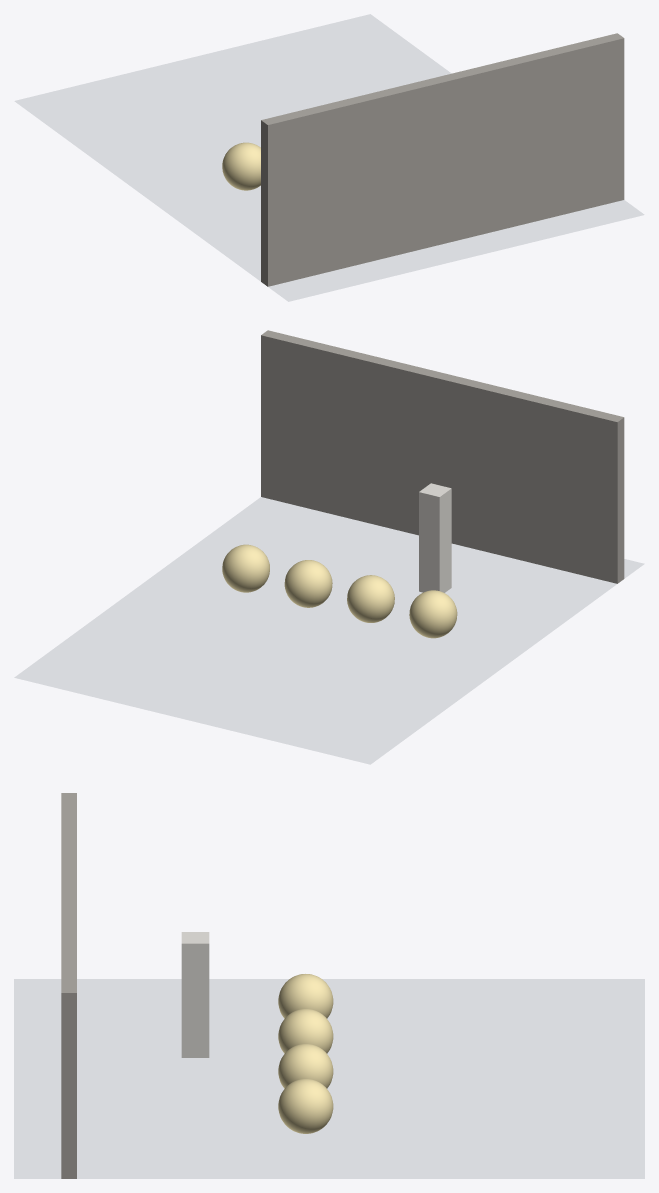
Rendered from mirror.gltf.
3 views of the same model, one above another, from view 1: azimuth 30°, elevation 25°; view 2: azimuth 150°, elevation 25°; view 3: azimuth 270°, elevation 25° (orthographic). The views are drawn at different scales.
Parts seen in each view (by area): view 1: wall, floor, metal_0; view 2: floor, wall, pylon, metal_0, metal_3, metal_1, metal_2; view 3: floor, wall, pylon, metal_3, metal_2, metal_0, metal_1.
Part boxes in pixels (x1=…): wall: x1=261, y1=33, x2=624, y2=286; floor: x1=14, y1=14, x2=644, y2=301; metal_0: x1=222, y1=142, x2=260, y2=190; floor: x1=14, y1=497, x2=644, y2=764; wall: x1=261, y1=330, x2=624, y2=583; pylon: x1=419, y1=483, x2=451, y2=592; metal_0: x1=409, y1=590, x2=457, y2=638; metal_3: x1=222, y1=544, x2=269, y2=592; metal_1: x1=347, y1=575, x2=394, y2=622; metal_2: x1=284, y1=560, x2=332, y2=607; floor: x1=14, y1=979, x2=644, y2=1178; wall: x1=61, y1=793, x2=76, y2=1178; pylon: x1=181, y1=932, x2=209, y2=1057; metal_3: x1=278, y1=1079, x2=333, y2=1133; metal_2: x1=278, y1=1044, x2=333, y2=1088; metal_0: x1=278, y1=974, x2=333, y2=1018; metal_1: x1=278, y1=1009, x2=333, y2=1053.
Size of the model in its own units: 12 by 5.2 by 16.
